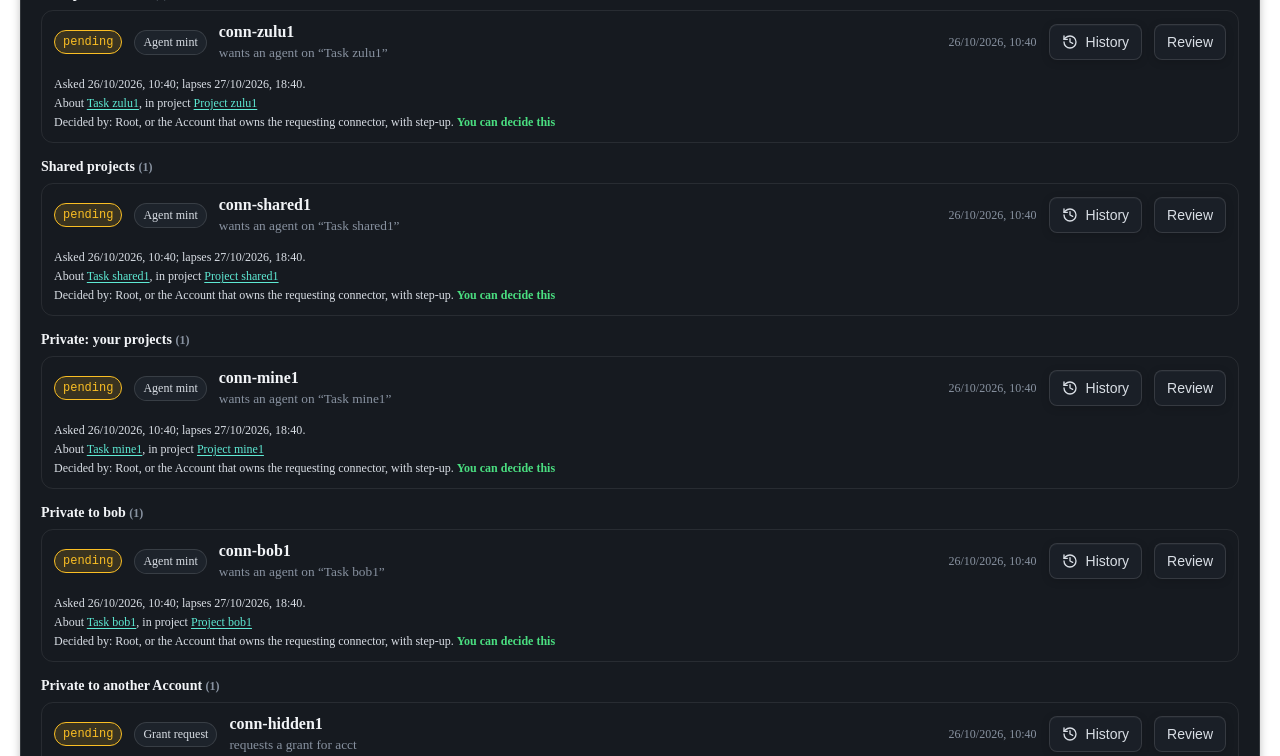
Test: T10: who asked, what, when, about what, who decides › where this session may decide, Review offers the existing decide flow
(page scrolled)
Click the button "Review" in the row of "wants an agent on “Task mine1”". click: (1190, 388)
box: left=1154, top=370, right=1226, bottom=406
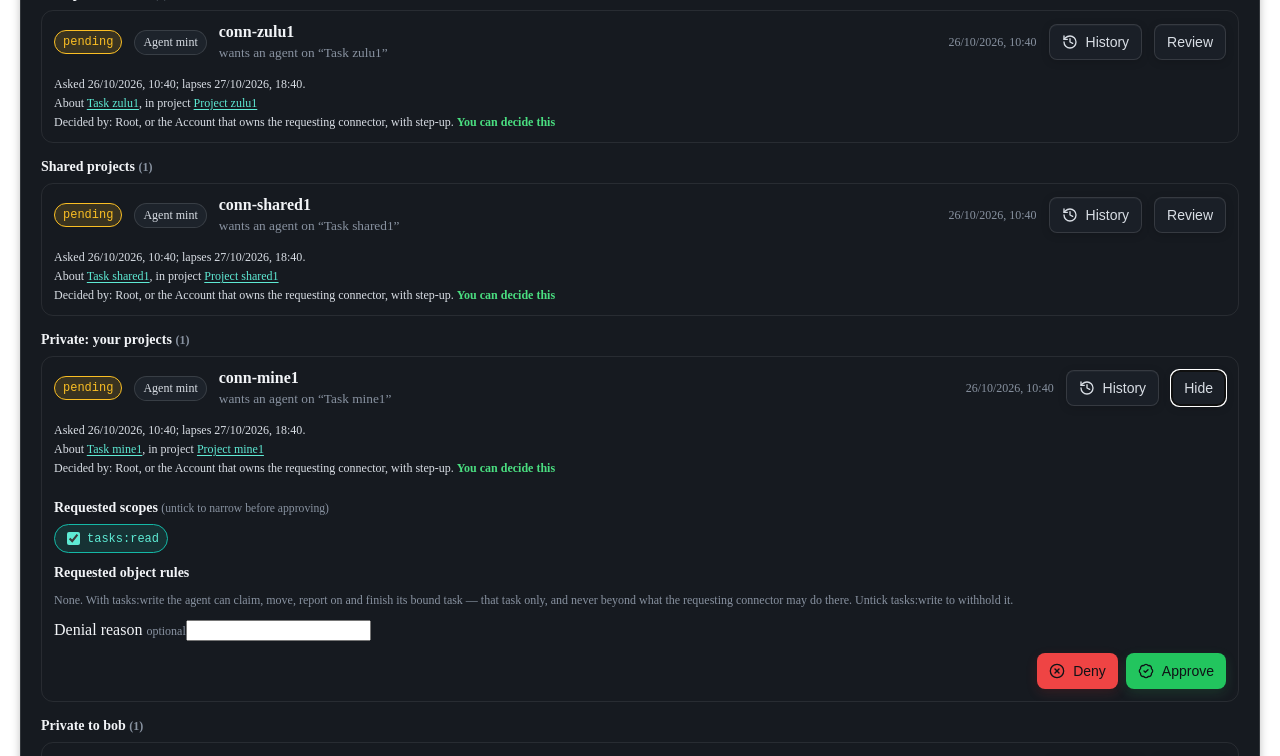
Check: the button "Approve" is shown, box left=1126, top=653, right=1226, bottom=689
Check: the button "Deny" is shown, box left=1037, top=653, right=1118, bottom=689
